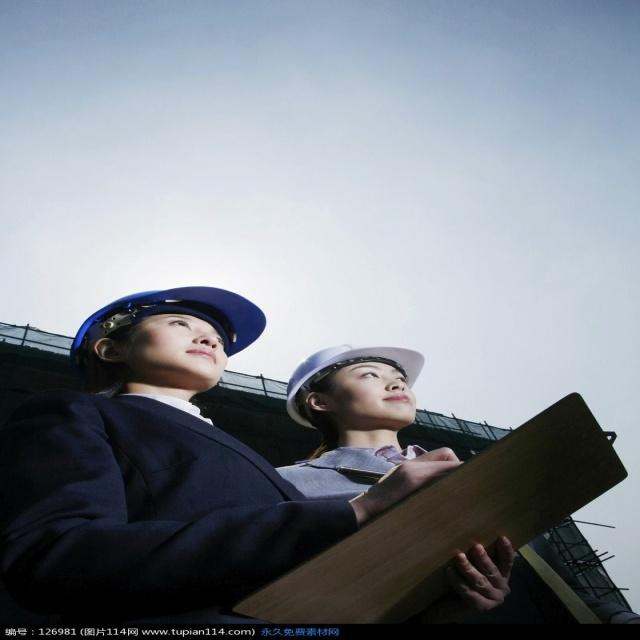helmet: (56, 373, 274, 519), (269, 446, 440, 586)
